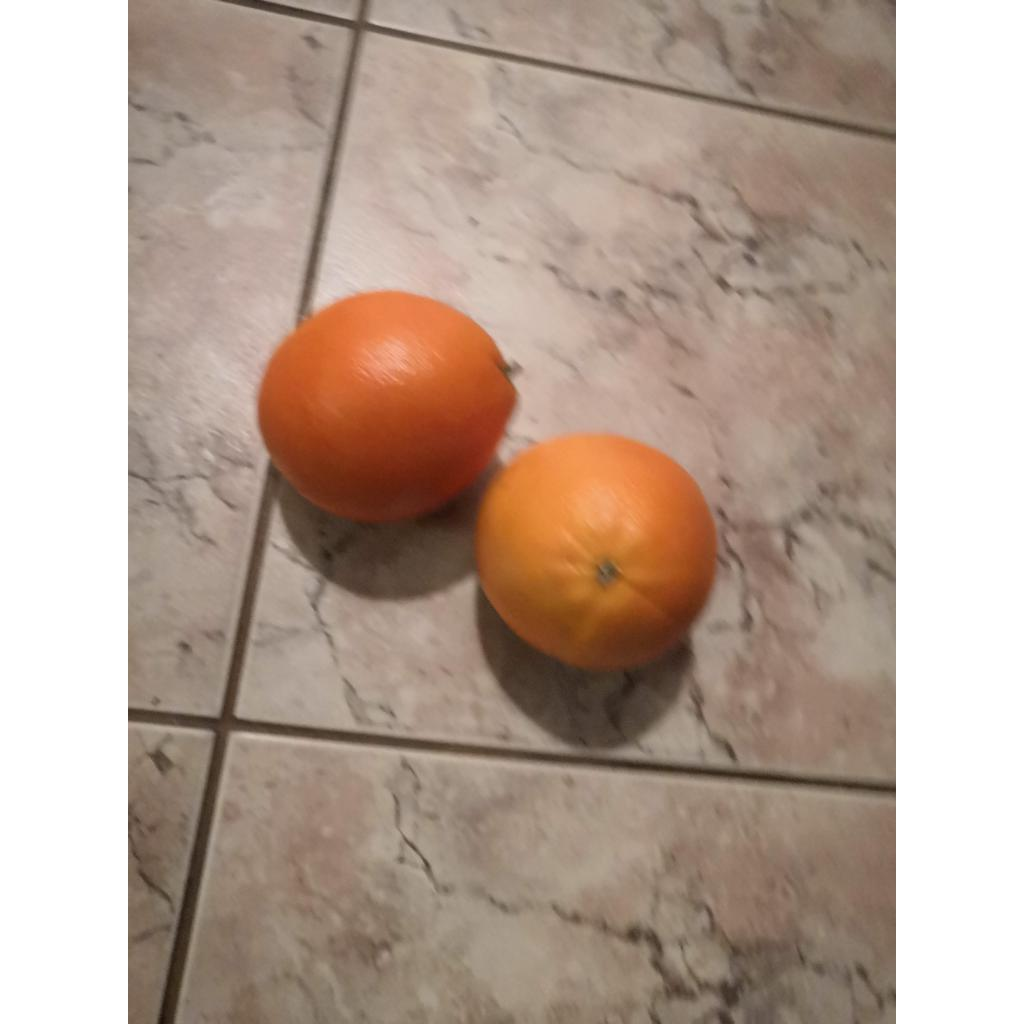orange: (258, 292, 516, 522), (476, 434, 716, 672)
